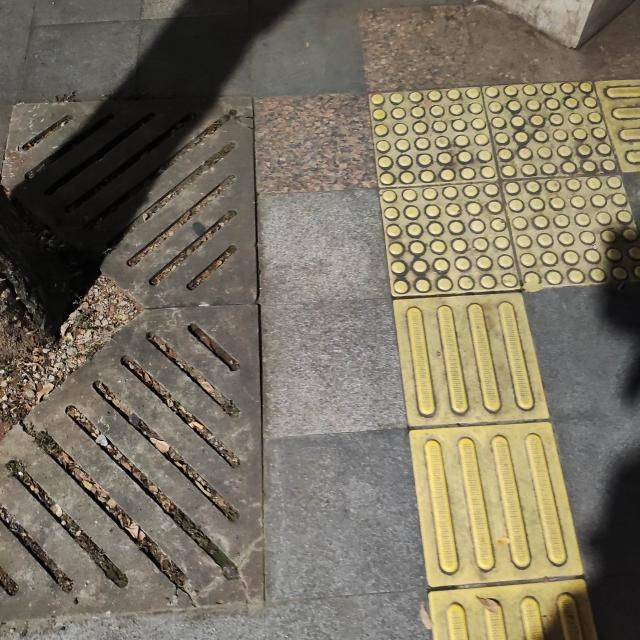kanan: (297, 30, 640, 416)
